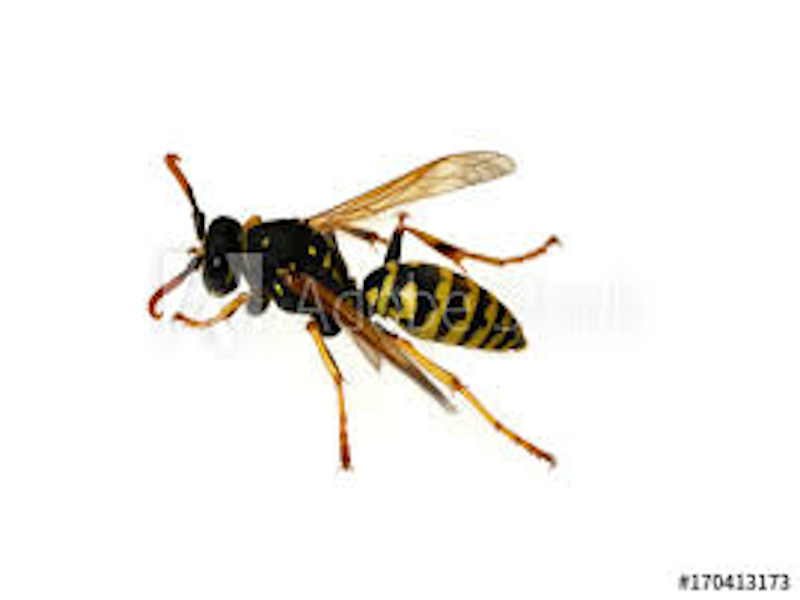chax: (114, 104, 641, 520)
